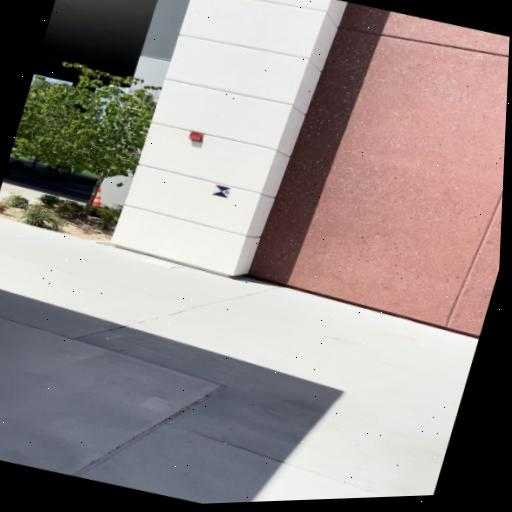target6: (213, 185, 231, 198)
